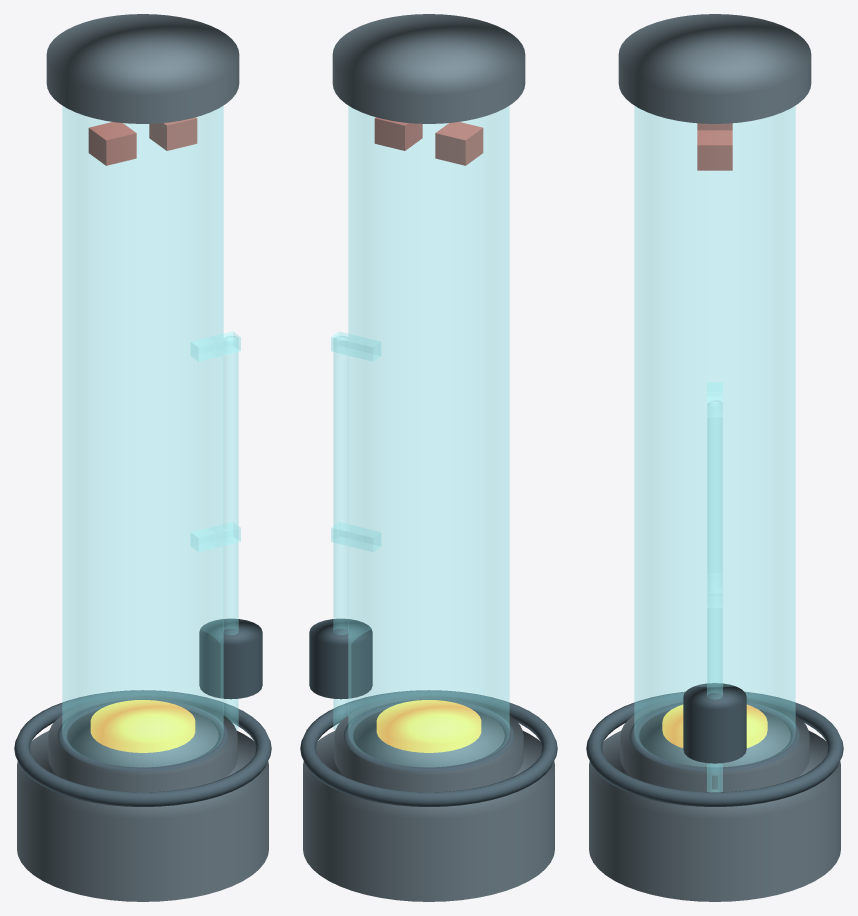
The model's file is chamber.glb.
3 views of the same model, side by side, from view 1: azimuth 30°, elevation 25°; view 2: azimuth 150°, elevation 25°; view 3: azimuth 270°, elevation 25° (orthographic).
Visible parts, largest first — view 1: Glass, Base, TopCap, BottomCap, Base_Rim, PumpTube, PumpBody, Sensor_Plate, Bottom_Glass_Rim, Release_Left, Release_Right, PumpLine_Upper (+1 smaller); view 2: Glass, Base, TopCap, BottomCap, Base_Rim, PumpTube, PumpBody, Sensor_Plate, Bottom_Glass_Rim, Release_Left, Release_Right, PumpLine_Upper (+1 smaller); view 3: Glass, Base, TopCap, BottomCap, Base_Rim, PumpTube, PumpBody, Bottom_Glass_Rim, Sensor_Plate, Release_Right, PumpLine_Upper.
Boxes of the visible parts, x1=… form: Glass: x1=62, y1=106, x2=223, y2=767; Base: x1=17, y1=731, x2=268, y2=901; TopCap: x1=46, y1=14, x2=239, y2=123; BottomCap: x1=48, y1=696, x2=237, y2=792; Base_Rim: x1=14, y1=690, x2=271, y2=806; PumpTube: x1=223, y1=336, x2=238, y2=729; PumpBody: x1=199, y1=618, x2=262, y2=699; Sensor_Plate: x1=90, y1=700, x2=195, y2=752; Bottom_Glass_Rim: x1=57, y1=699, x2=228, y2=771; Release_Left: x1=88, y1=122, x2=136, y2=165; Release_Right: x1=149, y1=117, x2=197, y2=150; PumpLine_Upper: x1=191, y1=331, x2=240, y2=361; Glass: x1=348, y1=106, x2=509, y2=767; Base: x1=303, y1=731, x2=554, y2=901; TopCap: x1=332, y1=14, x2=525, y2=123; BottomCap: x1=334, y1=696, x2=523, y2=792; Base_Rim: x1=300, y1=690, x2=557, y2=806; PumpTube: x1=333, y1=336, x2=348, y2=729; PumpBody: x1=309, y1=618, x2=372, y2=699; Sensor_Plate: x1=376, y1=700, x2=481, y2=752; Bottom_Glass_Rim: x1=343, y1=699, x2=514, y2=771; Release_Left: x1=435, y1=122, x2=483, y2=165; Release_Right: x1=374, y1=117, x2=422, y2=150; PumpLine_Upper: x1=331, y1=331, x2=380, y2=361; Glass: x1=634, y1=106, x2=795, y2=766; Base: x1=589, y1=731, x2=840, y2=901; TopCap: x1=618, y1=14, x2=811, y2=123; BottomCap: x1=620, y1=698, x2=809, y2=792; Base_Rim: x1=586, y1=691, x2=843, y2=806; PumpTube: x1=707, y1=400, x2=722, y2=791; PumpBody: x1=683, y1=683, x2=746, y2=763; Bottom_Glass_Rim: x1=629, y1=702, x2=800, y2=771; Sensor_Plate: x1=662, y1=704, x2=767, y2=747; Release_Right: x1=697, y1=130, x2=732, y2=170; PumpLine_Upper: x1=707, y1=382, x2=722, y2=416.
Size of the model in its own units: 1.5 by 5 by 1.47.
